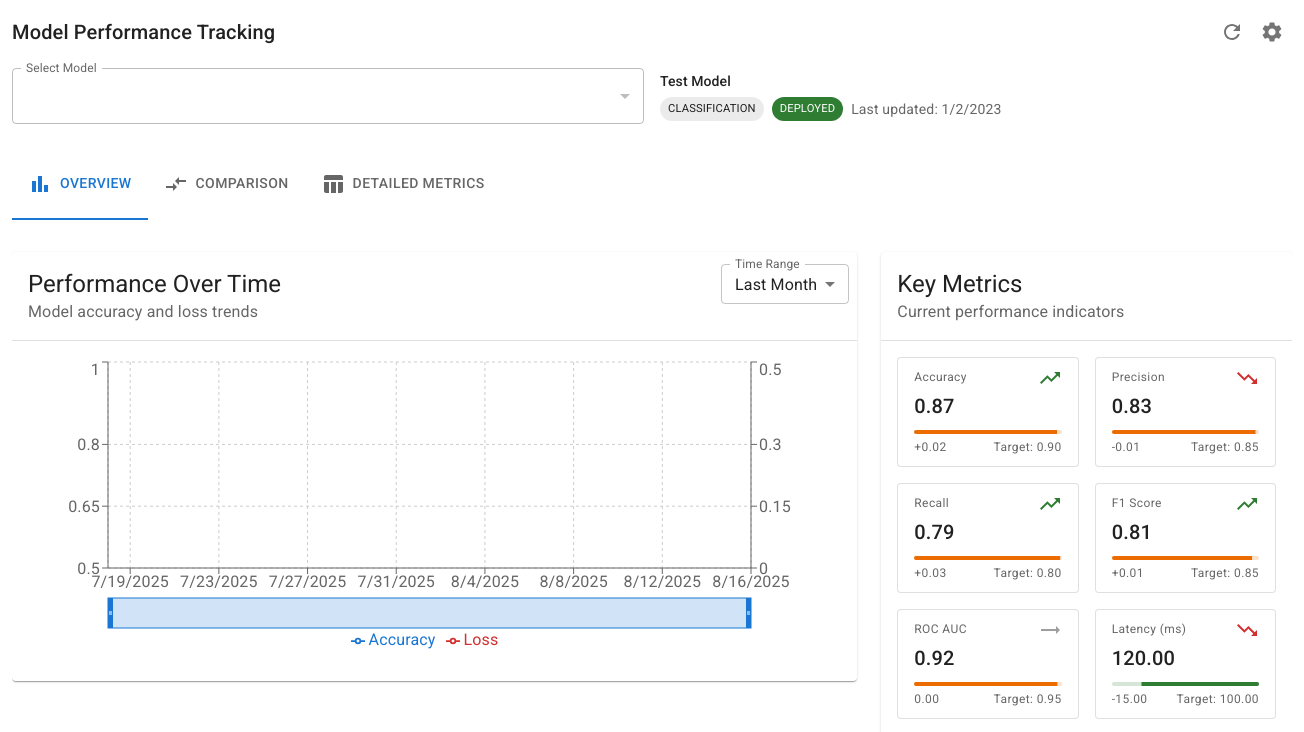
Test: ModelPerformancePanel Component › handles tab changes
Expected: the tab "Overview" is shown, [12,148,148,220]
Note: Click on Comparison tab
What coordinates should you click on to do the following:
click the tab "Comparison"
I would click on:
 (226, 184)
Its box is [148,148,305,220].
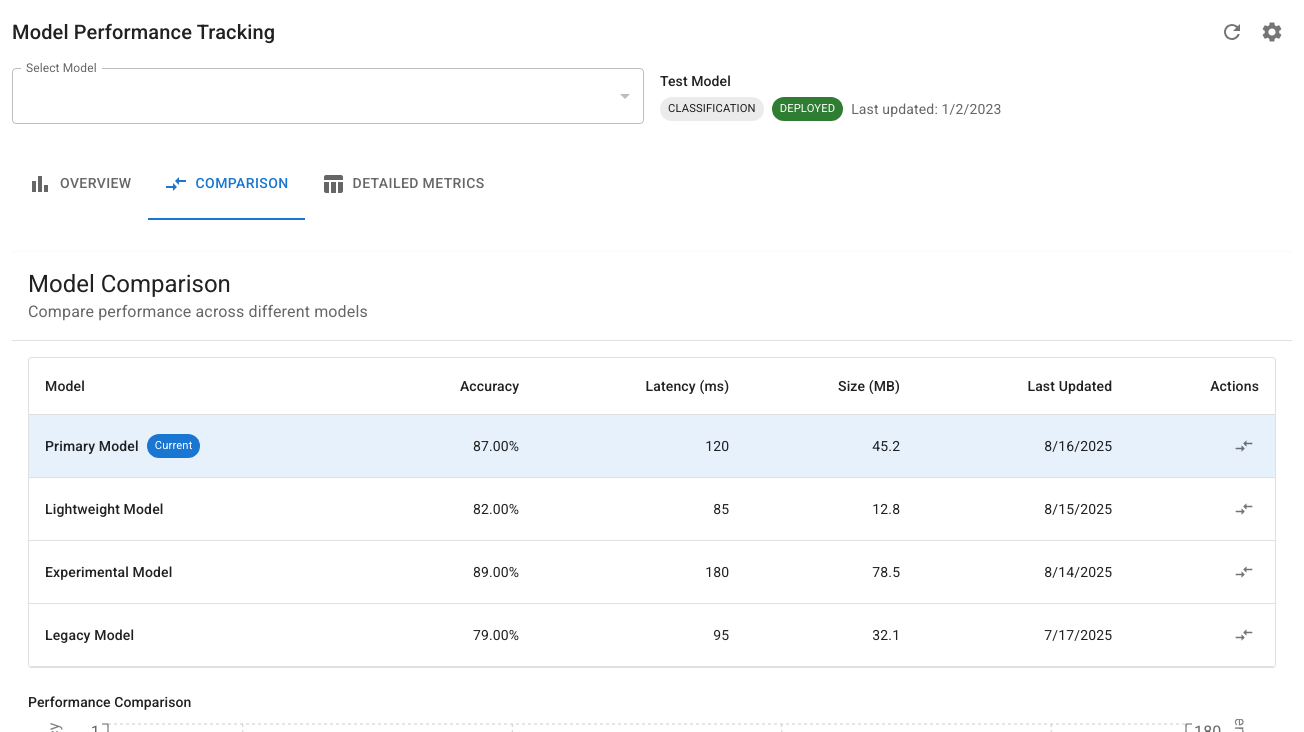
Expected: the text "Model Comparison" is shown, [28,270,231,298]
Expected: the heading "Performance Comparison" is shown, [28,694,191,710]
Note: Click on Detailed Metrics tab
What coordinates should you click on to do the following:
click the tab "Detailed Metrics"
I would click on:
 (403, 184)
Its box is [305,148,501,220].
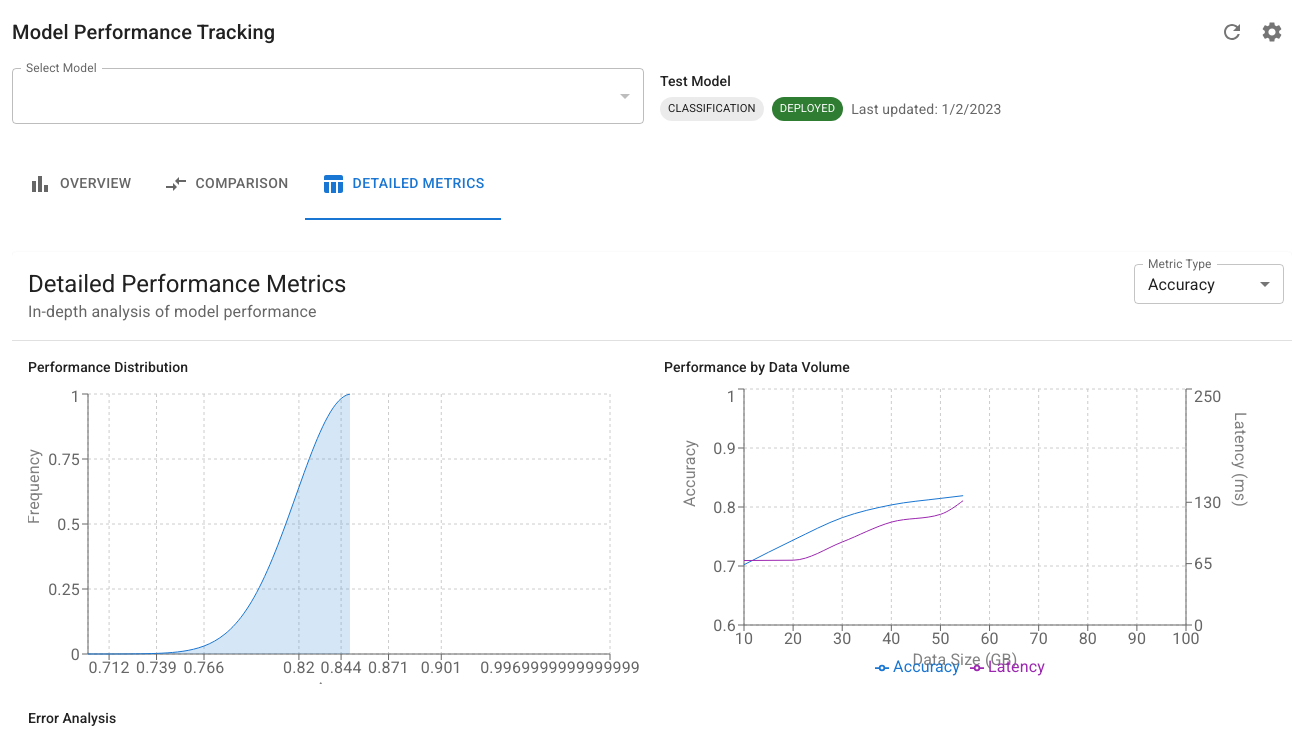
Expected: the text "Detailed Performance Metrics" is shown, [28,270,346,298]
Expected: the heading "Performance Distribution" is shown, [28,359,188,375]
